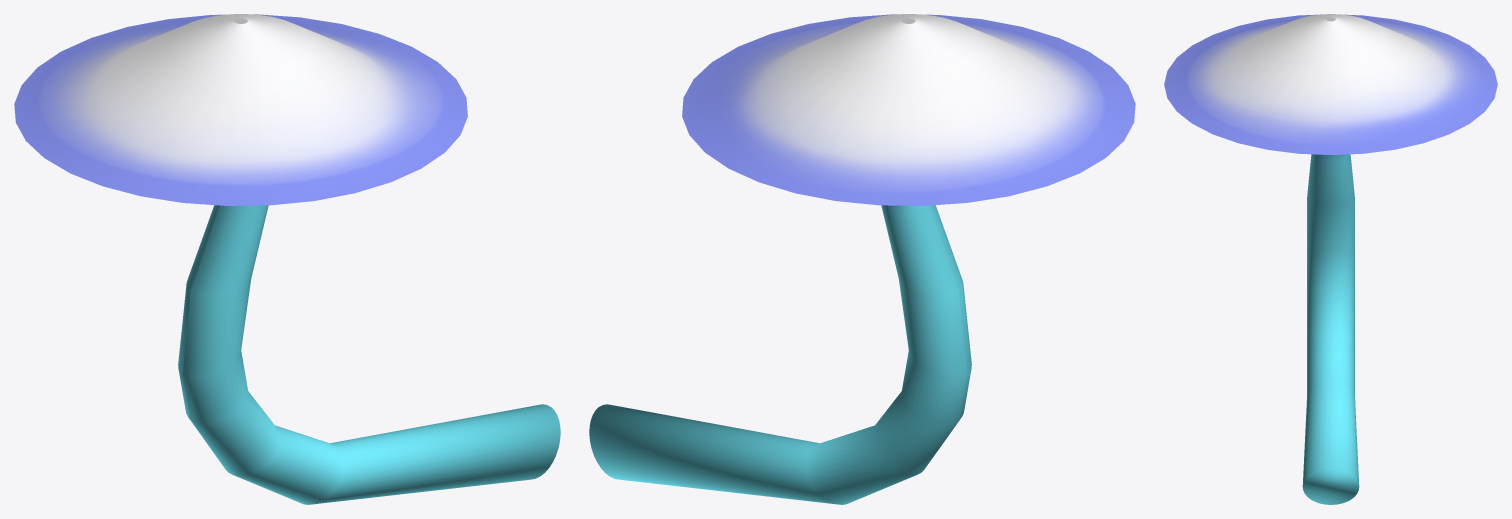
File: Big_Mountain Mushroom 4.fbx
3 views of the same model, side by side, from view 1: azimuth 30°, elevation 25°; view 2: azimuth 150°, elevation 25°; view 3: azimuth 270°, elevation 25° (orthographic). The views are drawn at different scales.
Parts seen in each view (by area): view 1: Mountain Mushroom; view 2: Mountain Mushroom; view 3: Mountain Mushroom.
Boxes of the visible parts, left/top/right/bottom form: Mountain Mushroom: left=14, top=14, right=560, bottom=504; Mountain Mushroom: left=589, top=14, right=1135, bottom=504; Mountain Mushroom: left=1164, top=14, right=1497, bottom=504.
Size of the model in its own units: 1.84 by 1.82 by 1.43.
